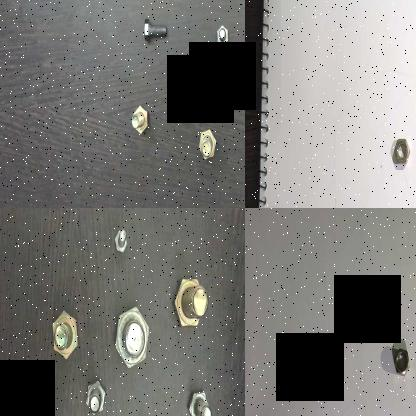Bolts: (112, 299, 152, 375), (172, 268, 208, 334), (47, 299, 78, 368), (80, 375, 111, 416), (140, 12, 170, 48), (184, 382, 213, 416), (130, 100, 154, 138), (196, 124, 216, 160), (113, 223, 130, 264), (212, 22, 230, 50), (167, 94, 183, 119)
NUTS: (390, 134, 410, 166), (392, 348, 411, 378)
